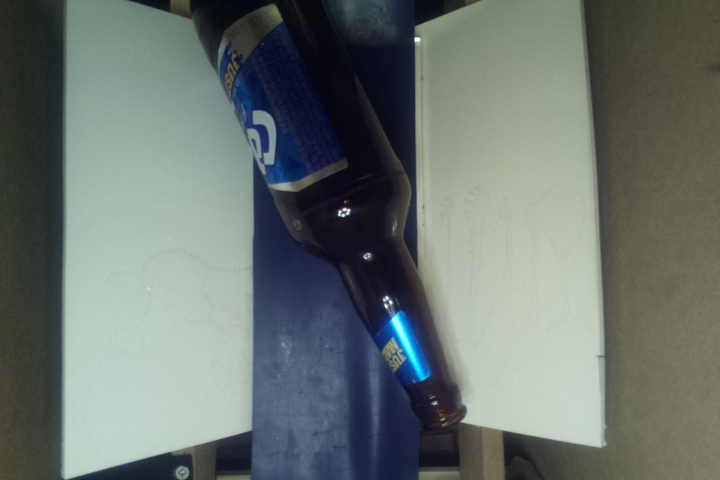makju: (177, 1, 469, 426)
